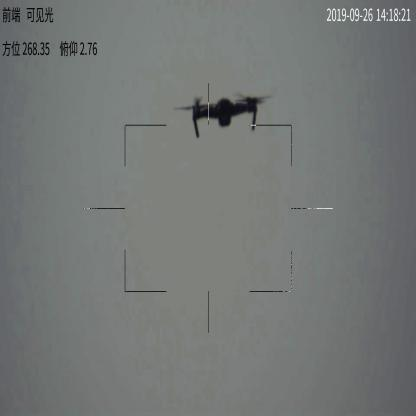uav: (171, 88, 274, 140)
